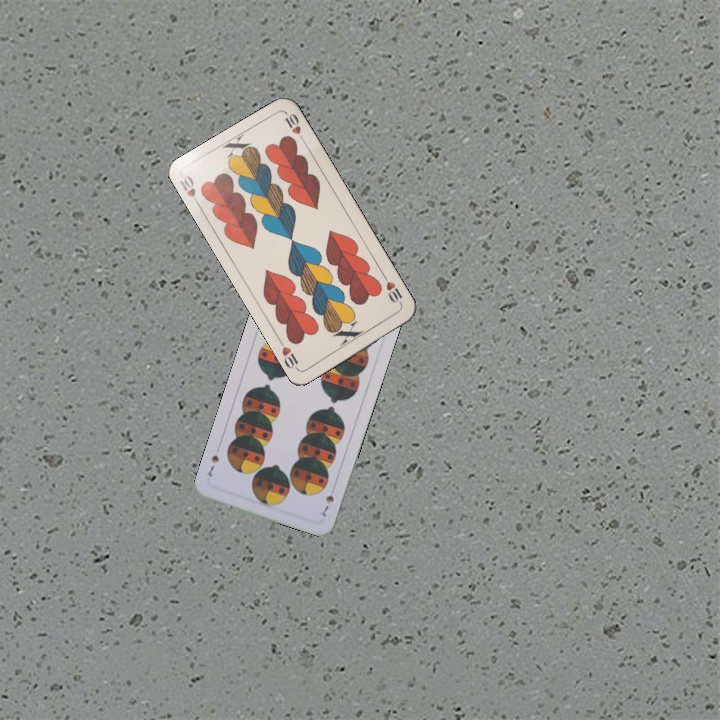H10: (175, 171, 203, 210), (380, 271, 405, 309)
S7: (318, 491, 336, 519)
